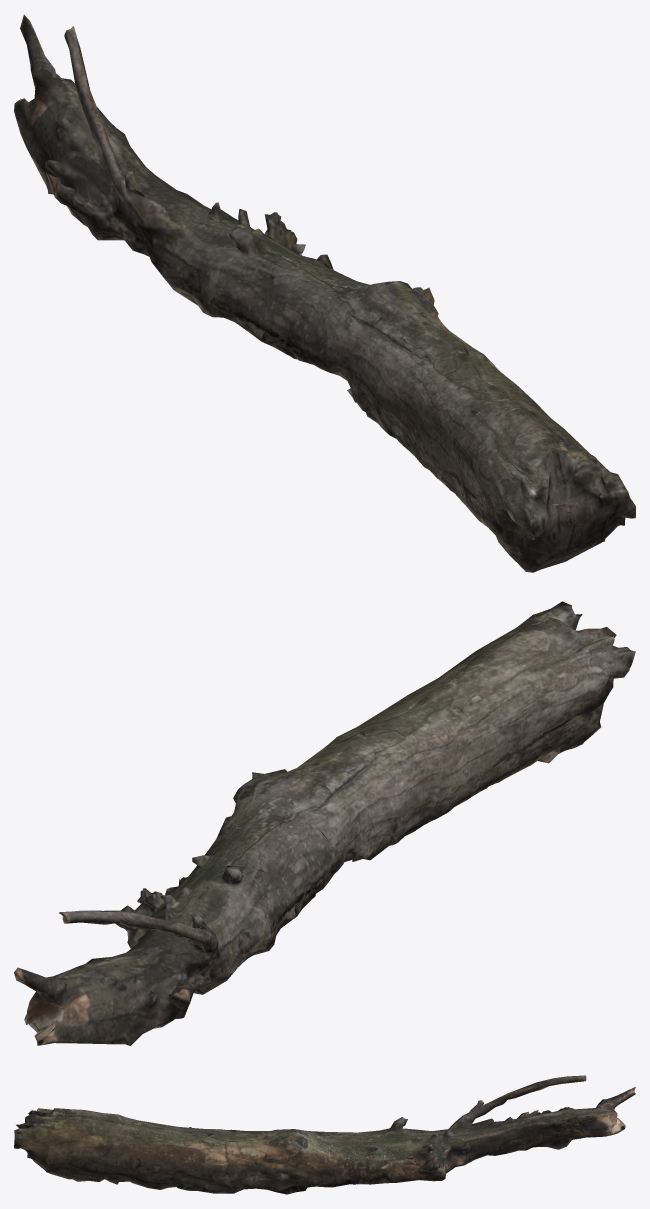
Rendered from kuru_dal_c.gltf.
3 renders of one model, top to bottom at view 1: azimuth 30°, elevation 25°; view 2: azimuth 150°, elevation 25°; view 3: azimuth 270°, elevation 25°, orthographic. The views are drawn at different scales.
Visible parts, largest first — view 1: kuru_dal_c; view 2: kuru_dal_c; view 3: kuru_dal_c.
Boxes of the visible parts, left/top/right/bottom form: kuru_dal_c: left=14, top=14, right=635, bottom=572; kuru_dal_c: left=14, top=601, right=635, bottom=1046; kuru_dal_c: left=14, top=1075, right=635, bottom=1194.
Bounding box in the file's own units: 0.1294 × 0.1433 × 0.7771.
1 material, 1 textured.
